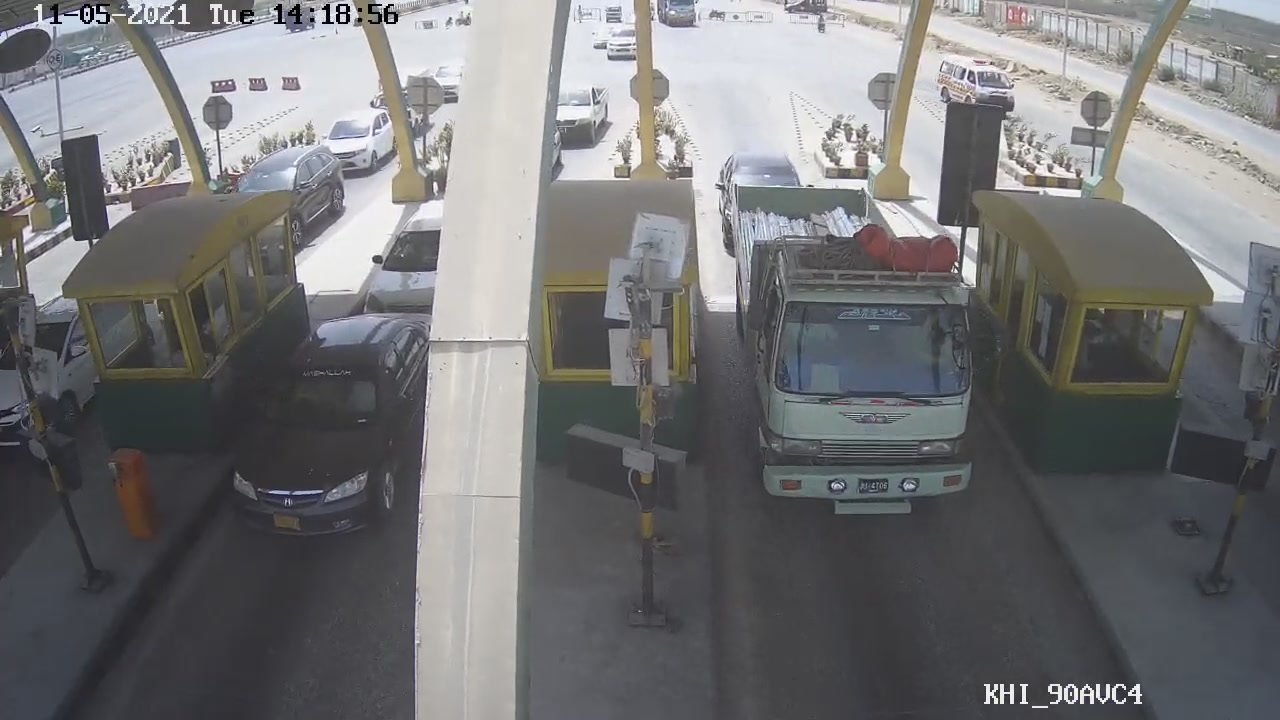F5: (739, 213, 978, 527)
